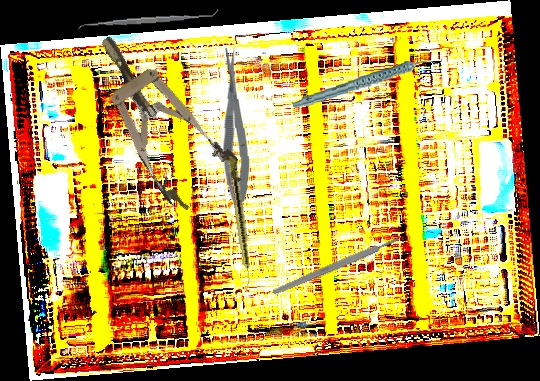Handpiece: (289, 58, 441, 110), (224, 152, 256, 291)
Micro Scissor: (219, 47, 252, 209)
Scalpel Handle: (271, 235, 401, 297)
Spatula Surgical: (77, 7, 220, 33)
Speculum: (72, 15, 249, 221)
